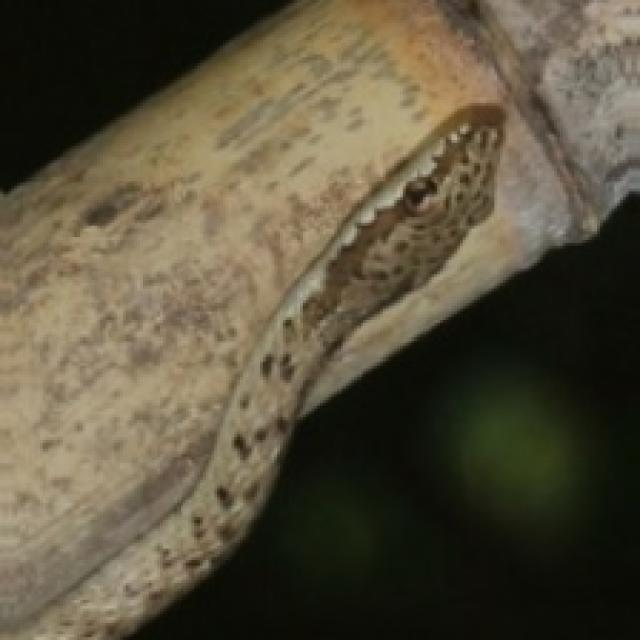philippine whip snake: (0, 103, 511, 637)
